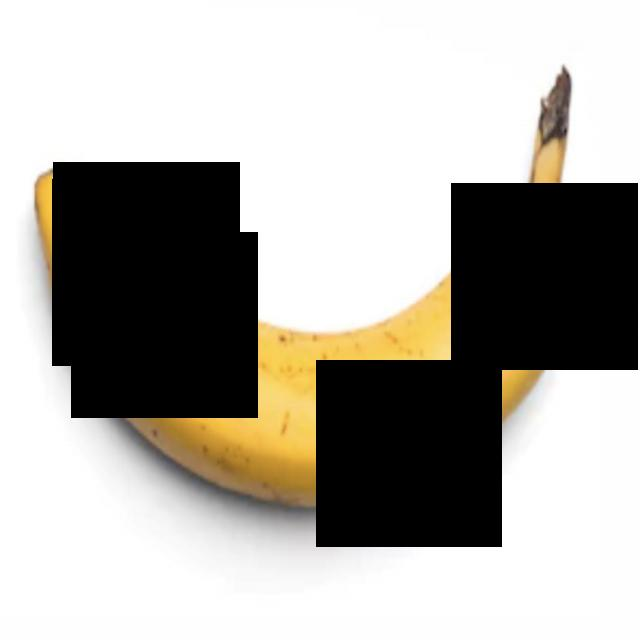banana: (0, 19, 638, 637)
